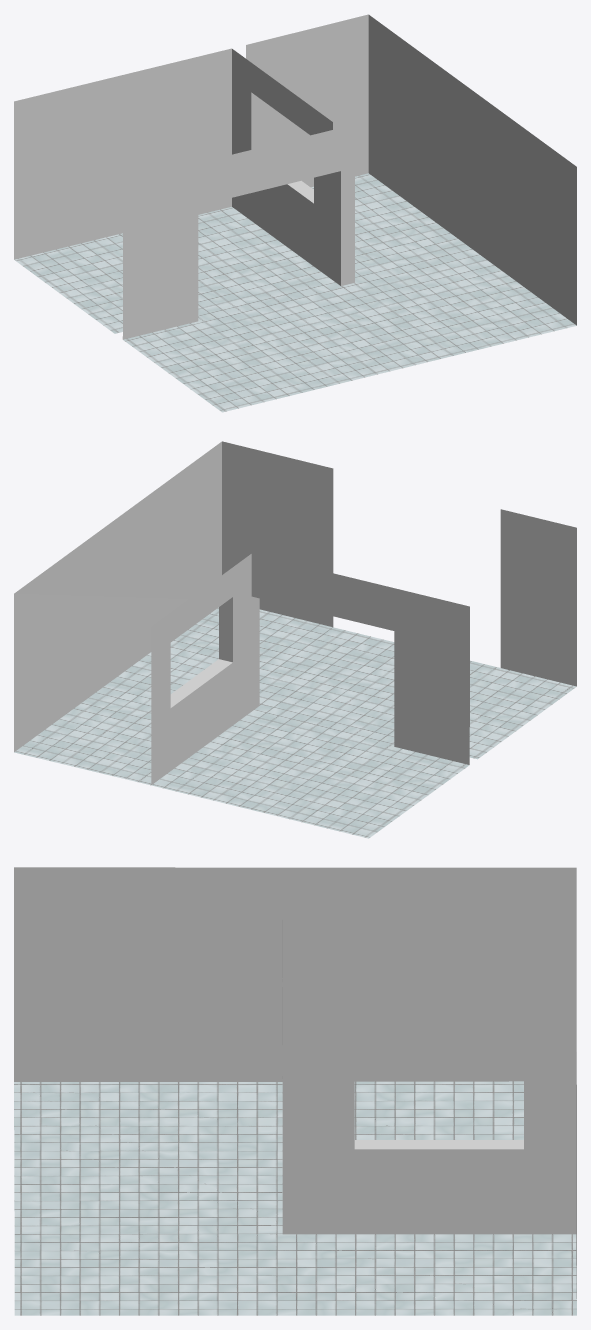
File: rz_cont1_testroom.glb
The picture shows the model from 3 angles, top to bottom: view 1: azimuth 30°, elevation 25°; view 2: azimuth 150°, elevation 25°; view 3: azimuth 270°, elevation 25°; orthographic projection. The views are drawn at different scales.
Parts seen in each view (by area): view 1: Cube; view 2: Cube; view 3: Cube.
Part boxes in pixels (x1,y1,x2,y2): Cube: [14, 14, 576, 412]; Cube: [14, 441, 576, 838]; Cube: [14, 867, 576, 1315].
Size of the model in its own units: 16.97 by 7.26 by 17.26.
Materials: 3 (2 with a texture image).
